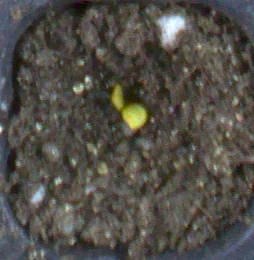pepper seed: (48, 38, 196, 168), (48, 26, 173, 139)
